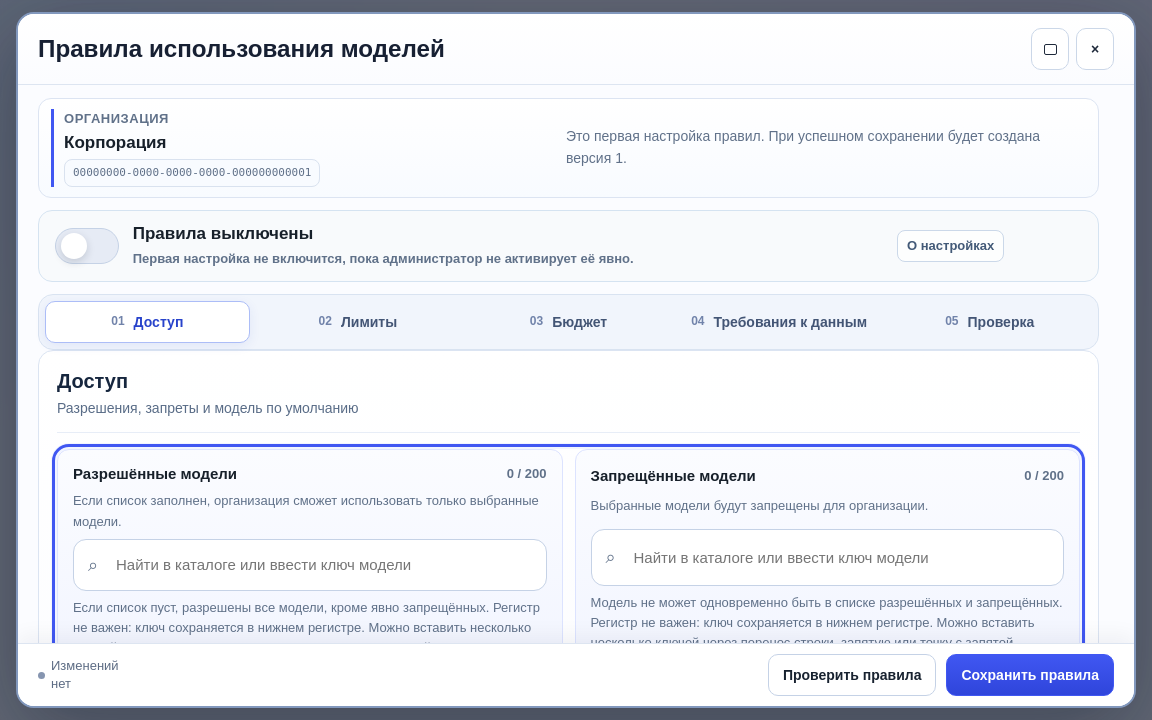
it: ModelPolicyModal: безопасность изменения правил › не сохраняет включённые правила без предварительной серверной проверки
The width and height of the screenshot is (1152, 720).
Click the checkbox labelled "Правила выключены": (87, 246) [55,224,634,266]
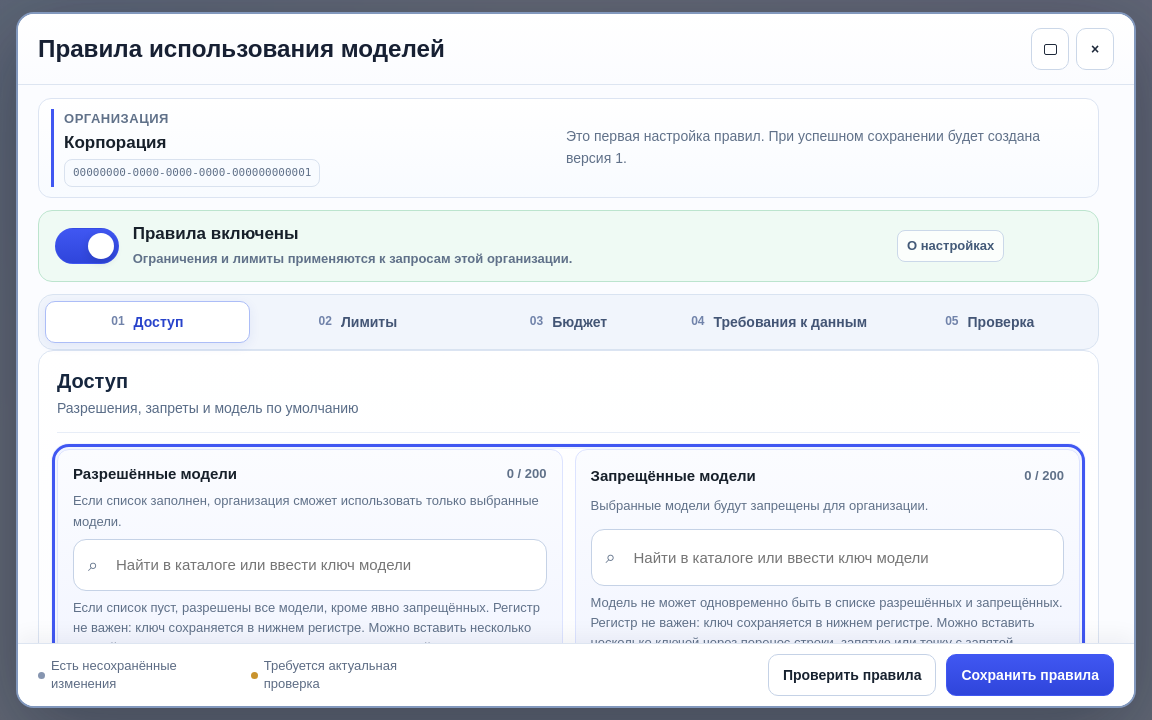
Click the button "Сохранить правила": (1030, 675) [946,654,1114,696]
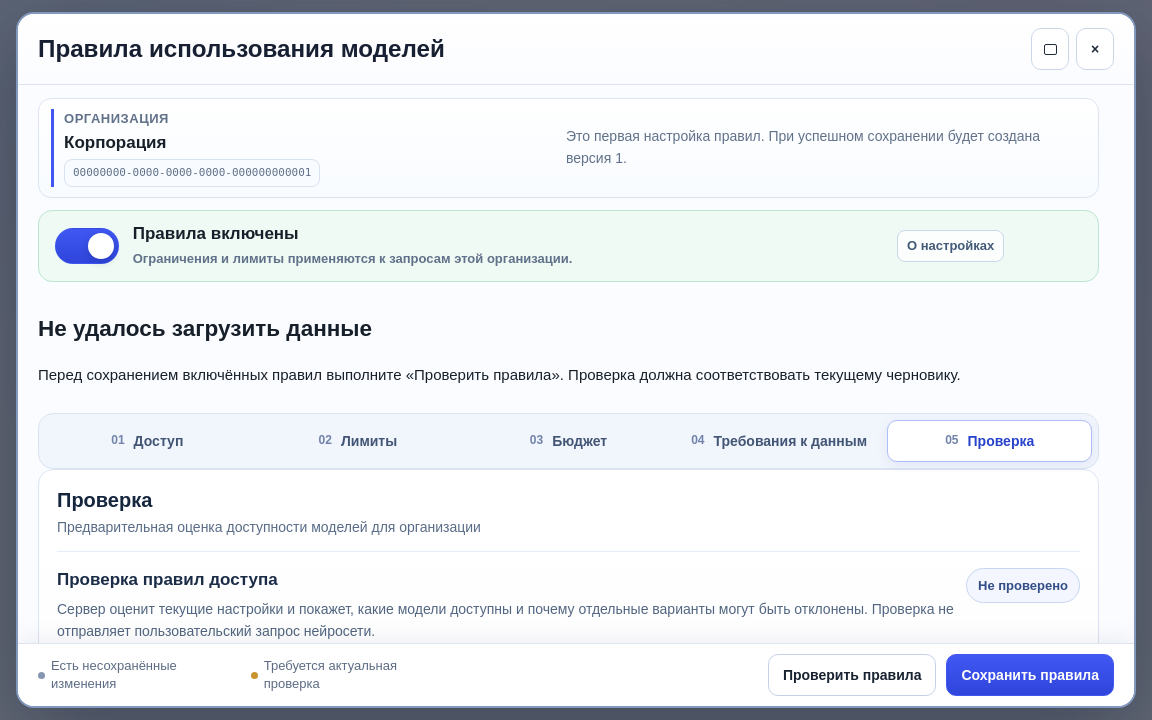
Now the text "Перед сохранением включённых правил выполните" is shown, box [38,366,960,383]
